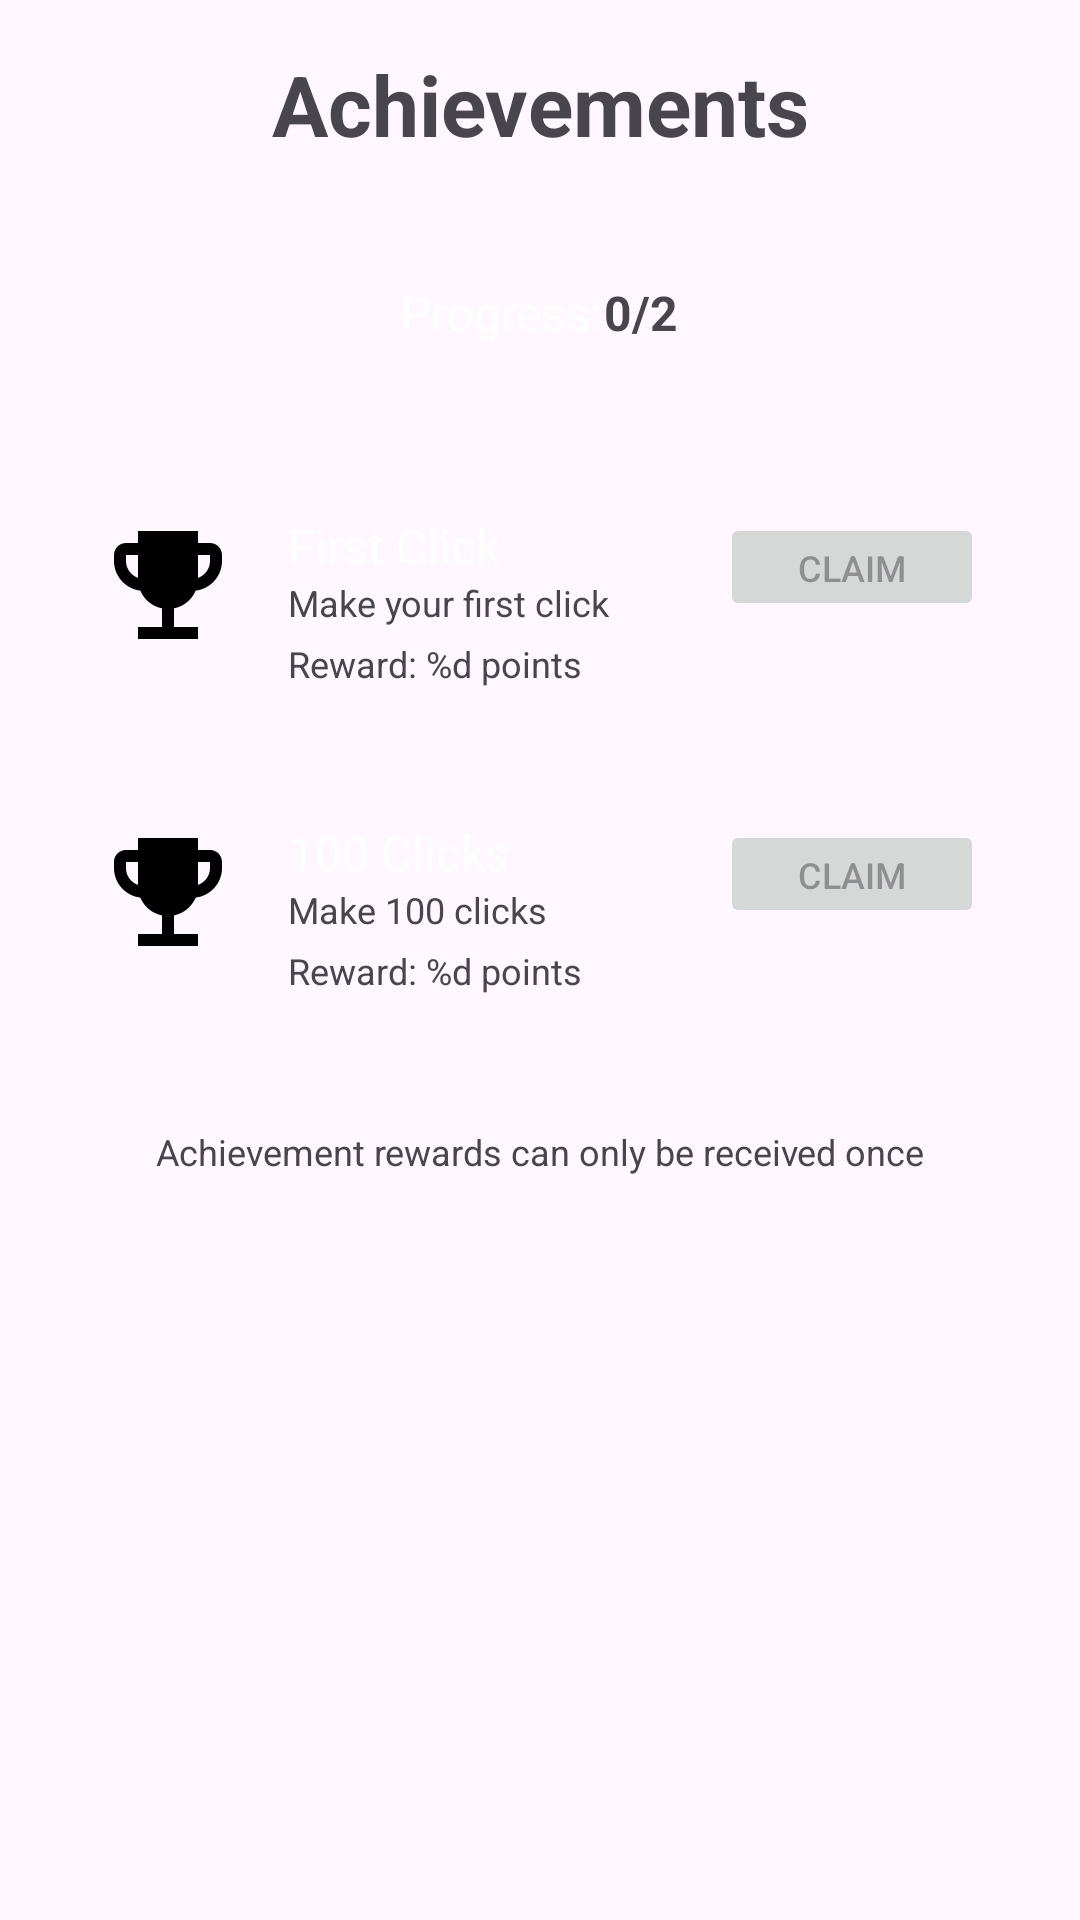

Named icons in this screenshot (1080 x 1920) and their centers, [x,y]:
achievement: [168,585], [168,892]
